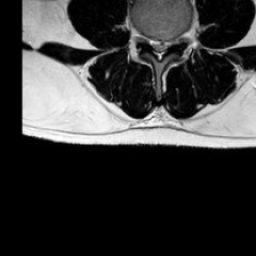CCS_normal: (155, 28, 162, 69)
LFS_stenosis: (171, 26, 180, 50)
LLS_stenosis: (162, 28, 171, 58)
RFS_normal: (137, 23, 146, 50)
RLS_stenosis: (146, 28, 155, 55)
